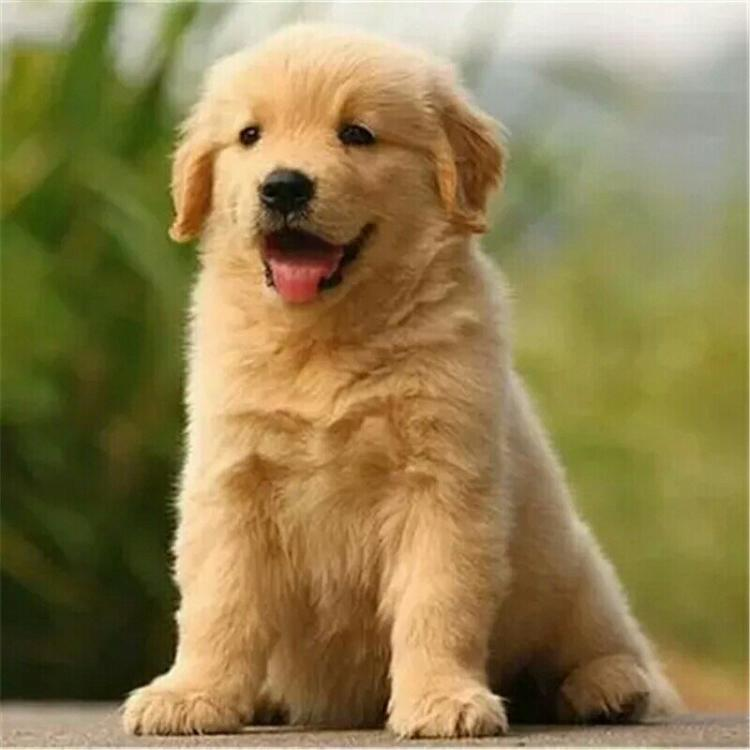dog: (120, 20, 689, 736)
